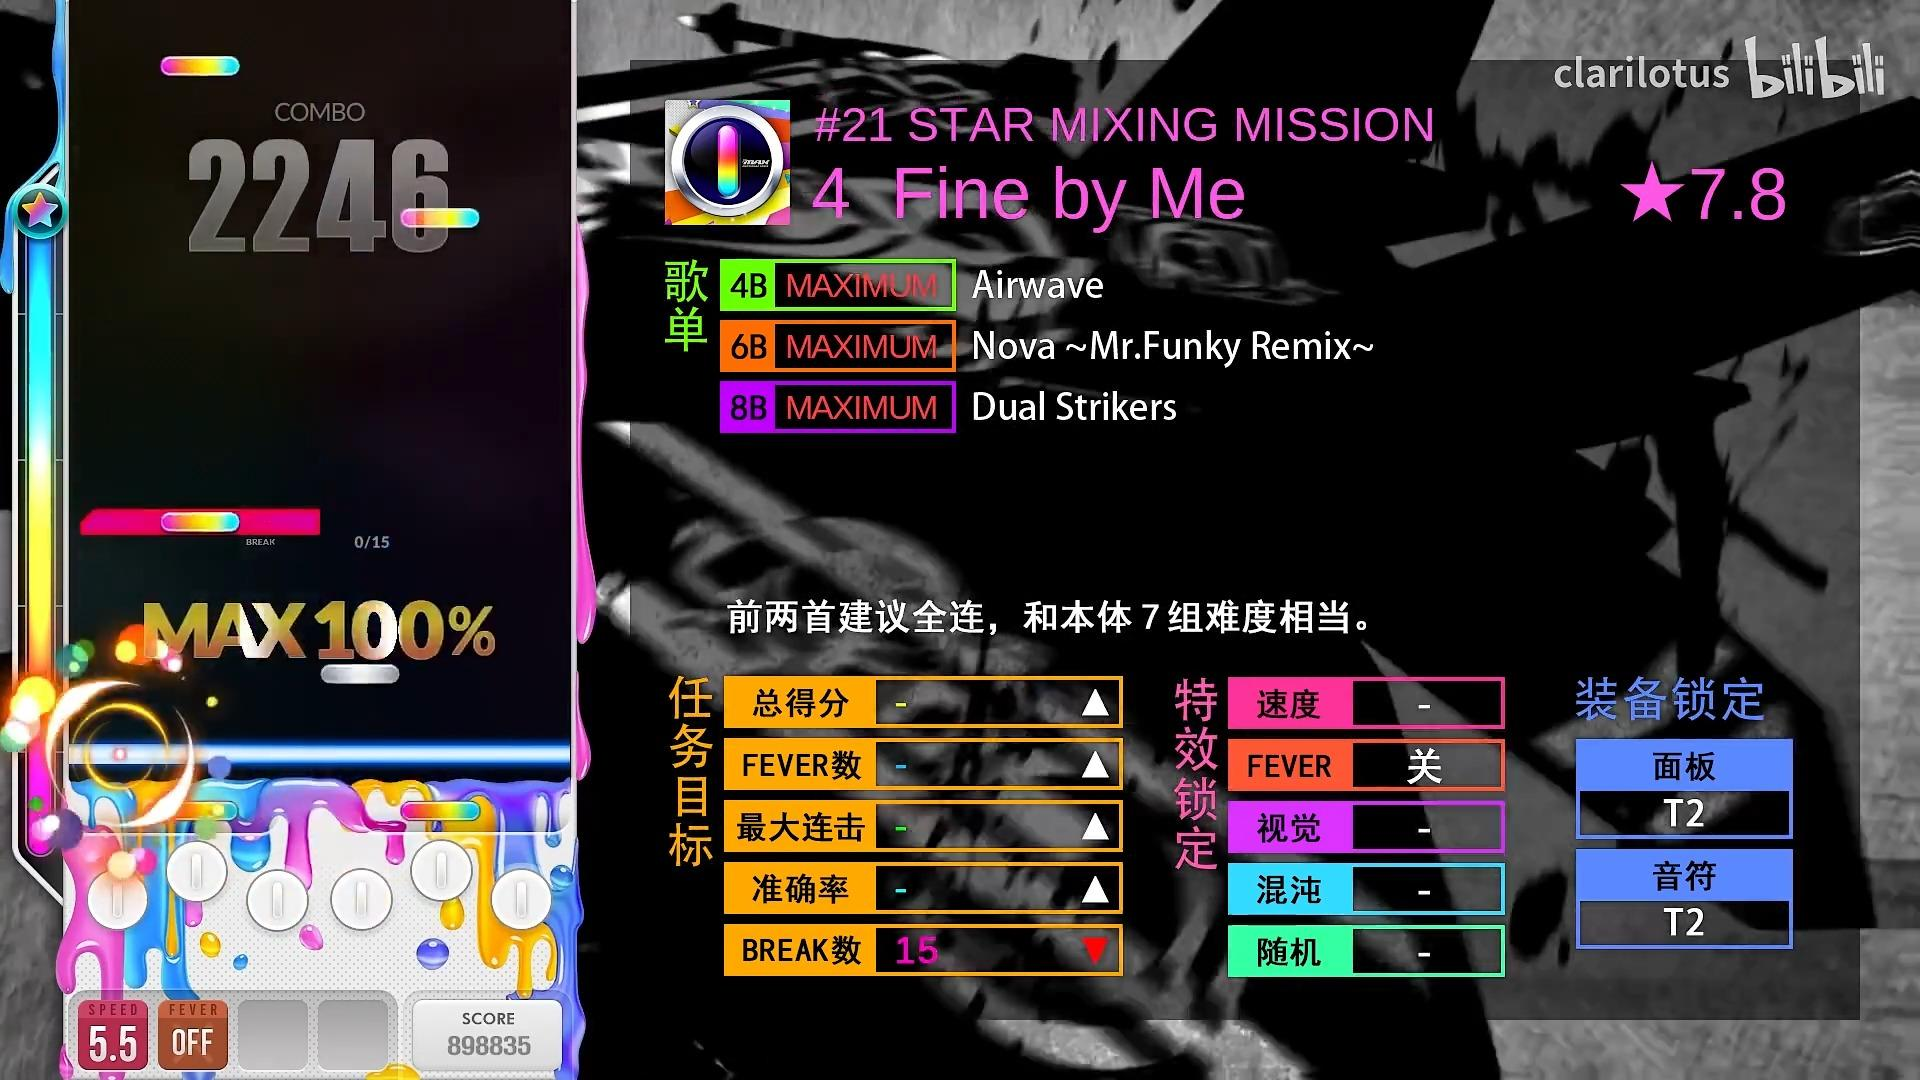note: (320, 663, 401, 684), (401, 208, 480, 229), (161, 512, 240, 533), (161, 57, 240, 76)
xnote: (79, 509, 320, 535)
